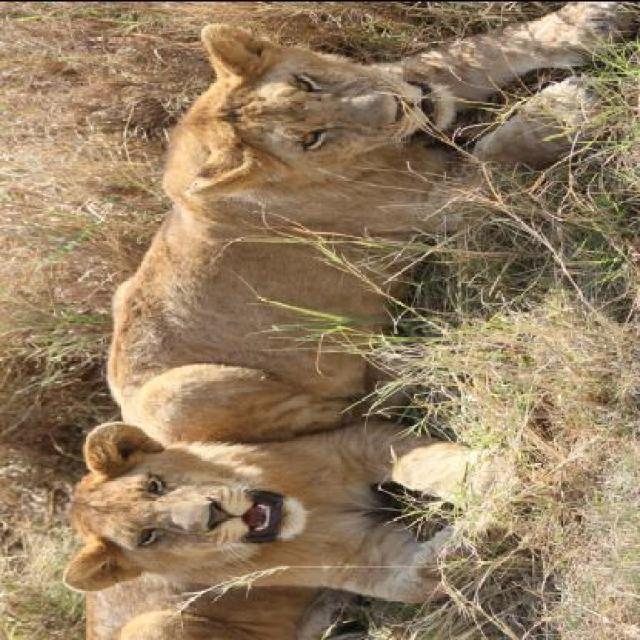Lion: (91, 8, 638, 417), (52, 424, 522, 638)
